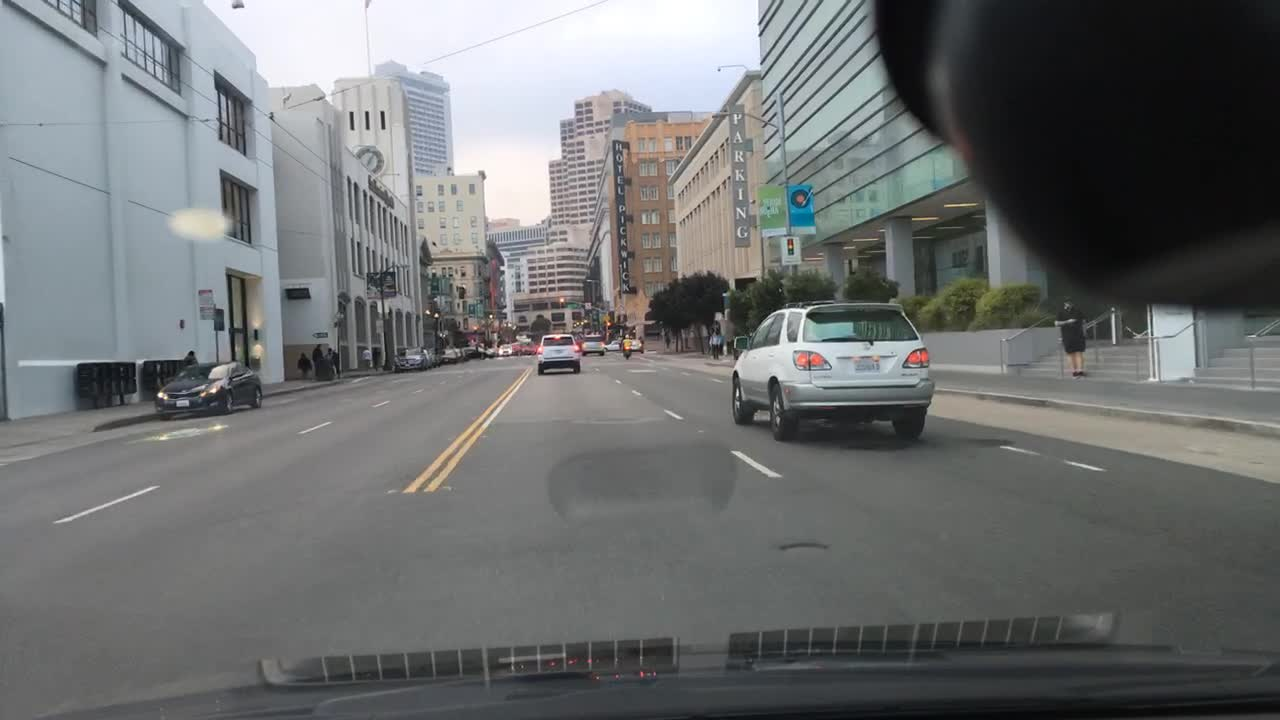car: (725, 296, 931, 443), (157, 363, 263, 419), (532, 333, 582, 375), (393, 345, 429, 368), (580, 335, 607, 354), (436, 347, 456, 365), (484, 344, 502, 360), (630, 336, 646, 353), (511, 342, 526, 359), (606, 338, 618, 349), (465, 347, 472, 365)
motor: (622, 343, 631, 359)
person: (1052, 299, 1089, 377), (311, 341, 326, 379), (173, 350, 198, 371), (709, 319, 721, 360), (296, 350, 311, 380), (327, 348, 337, 378), (360, 344, 370, 371), (498, 345, 513, 359), (370, 347, 379, 369)
rider: (622, 331, 628, 349)
traffic light: (603, 316, 612, 328), (557, 294, 563, 308)
traffic sign: (845, 262, 856, 277), (583, 300, 596, 308), (568, 301, 582, 308)
